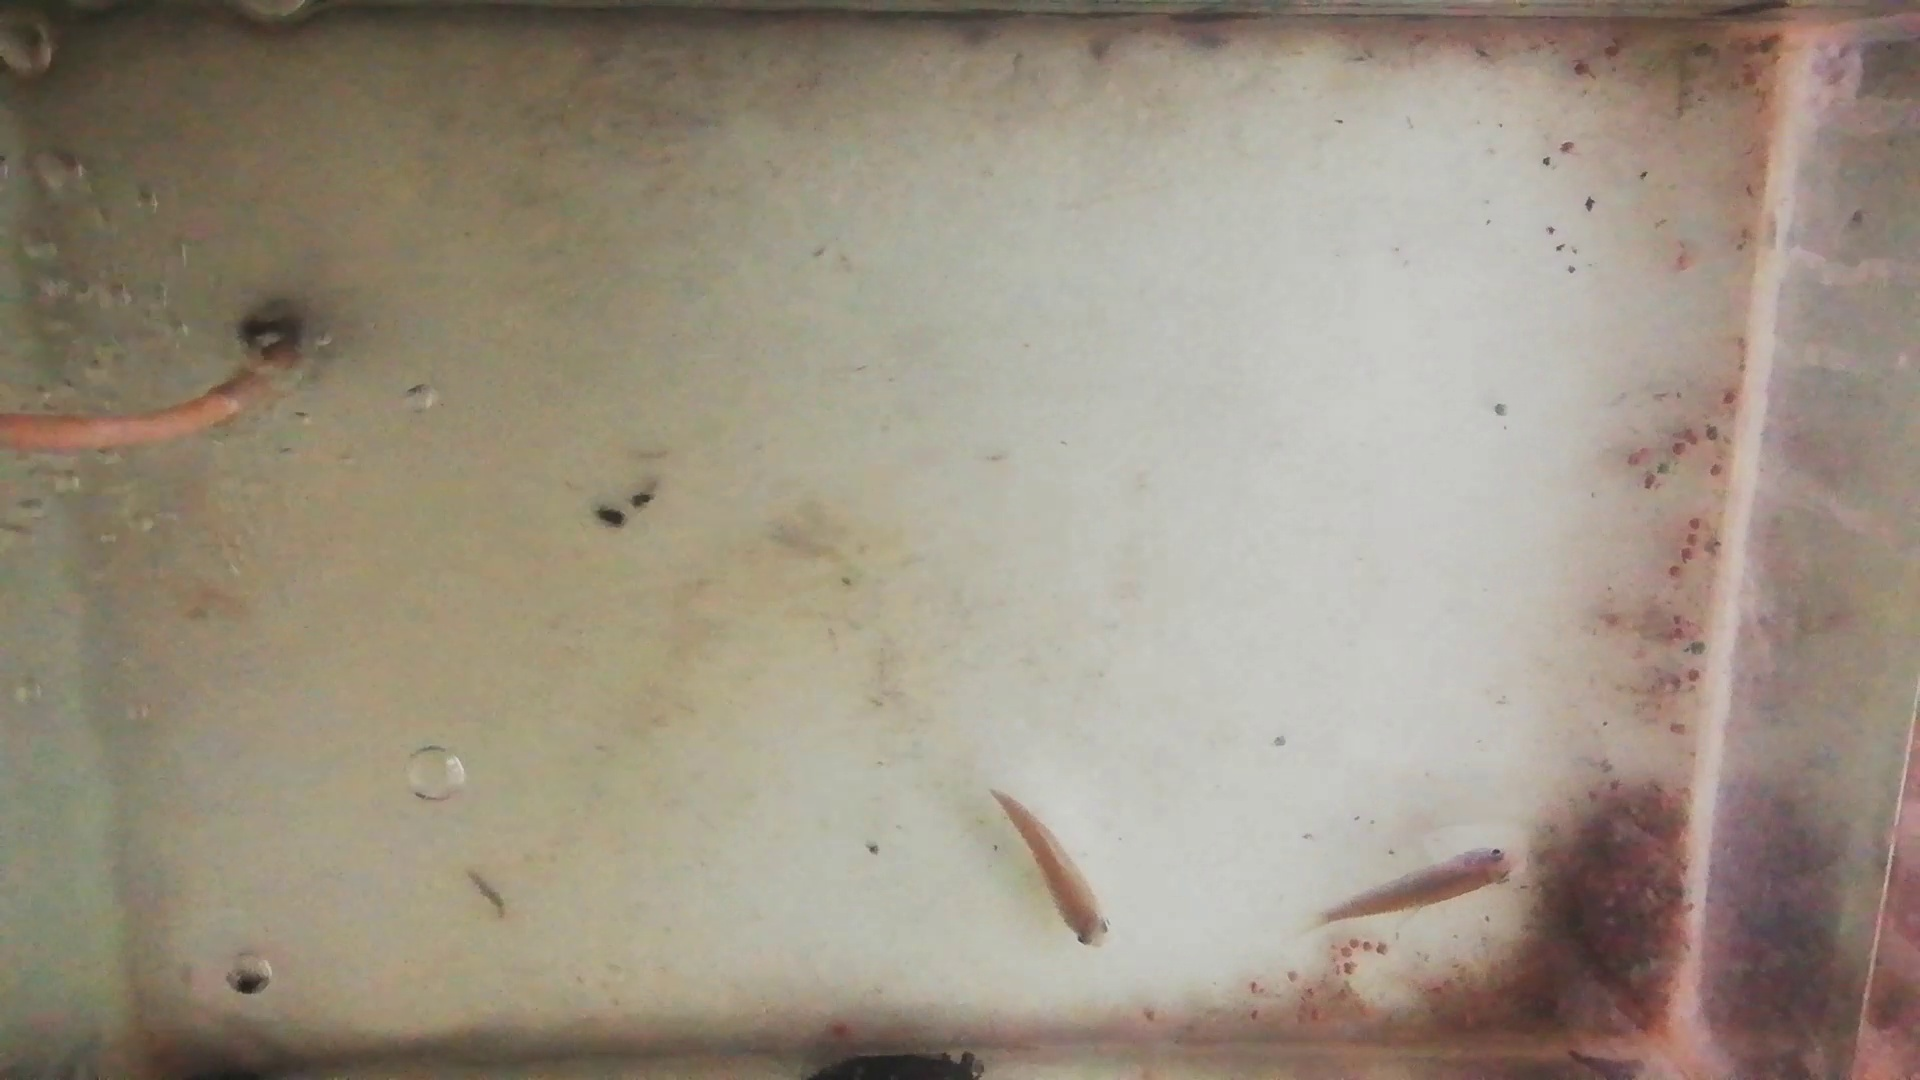fish: (989, 787, 1106, 947), (1323, 848, 1516, 920)
